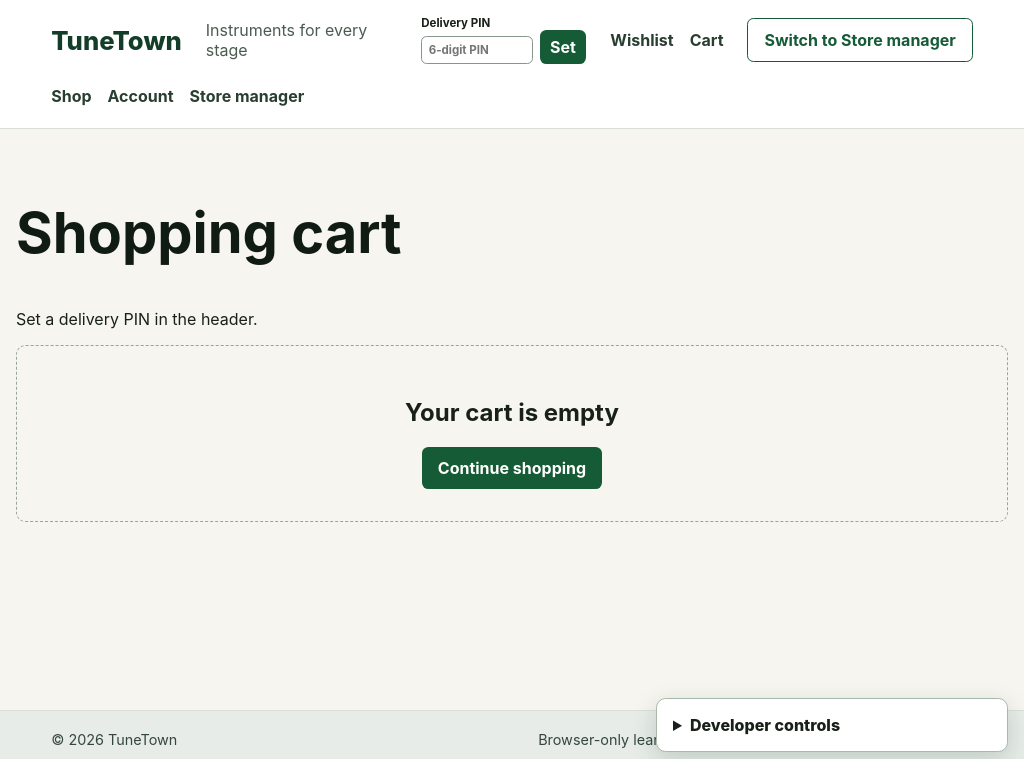
Test case: application shell › redirects a shopper on the cart page to the manager dashboard after switching roles
Click the button "Switch to Store manager". click: (860, 40)
box: top-left (748, 18), bottom-right (973, 62)
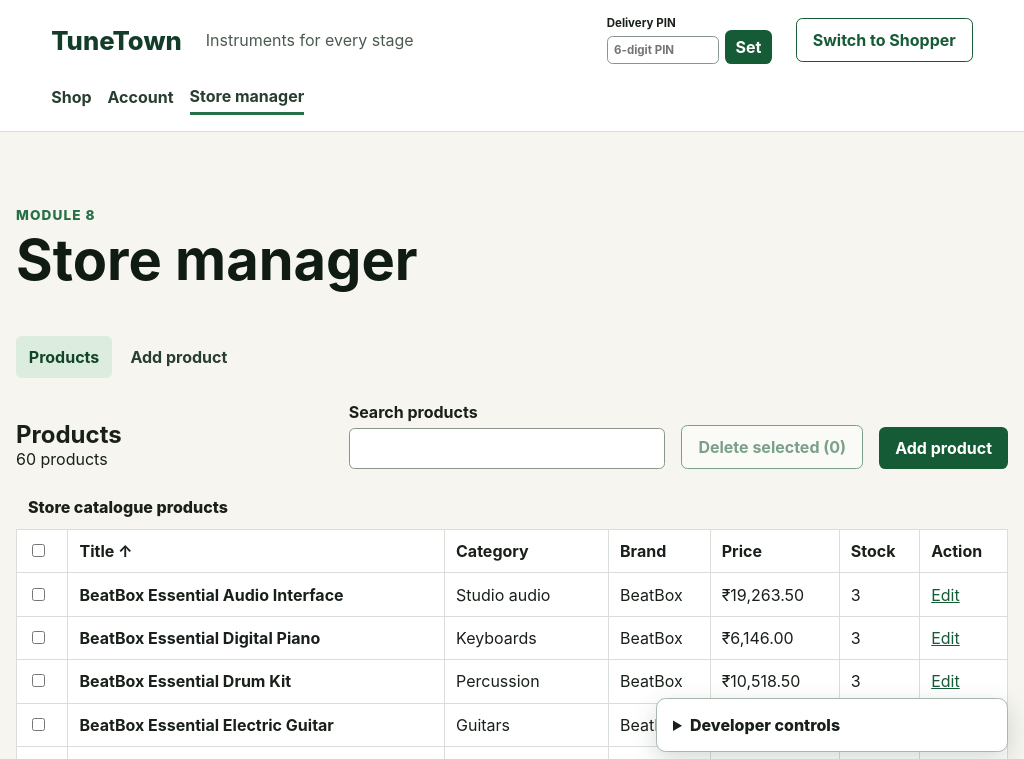
Expected: the heading "Store manager" is shown, top-left (16, 226), bottom-right (418, 294)
Expected: the link "Wishlist" is gone
Expected: the link "Cart" is gone
